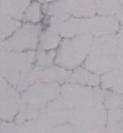fissura: (3, 1, 123, 125)
